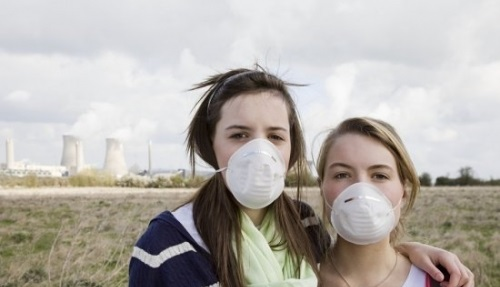face_mask: (322, 138, 403, 245), (213, 97, 290, 207)
